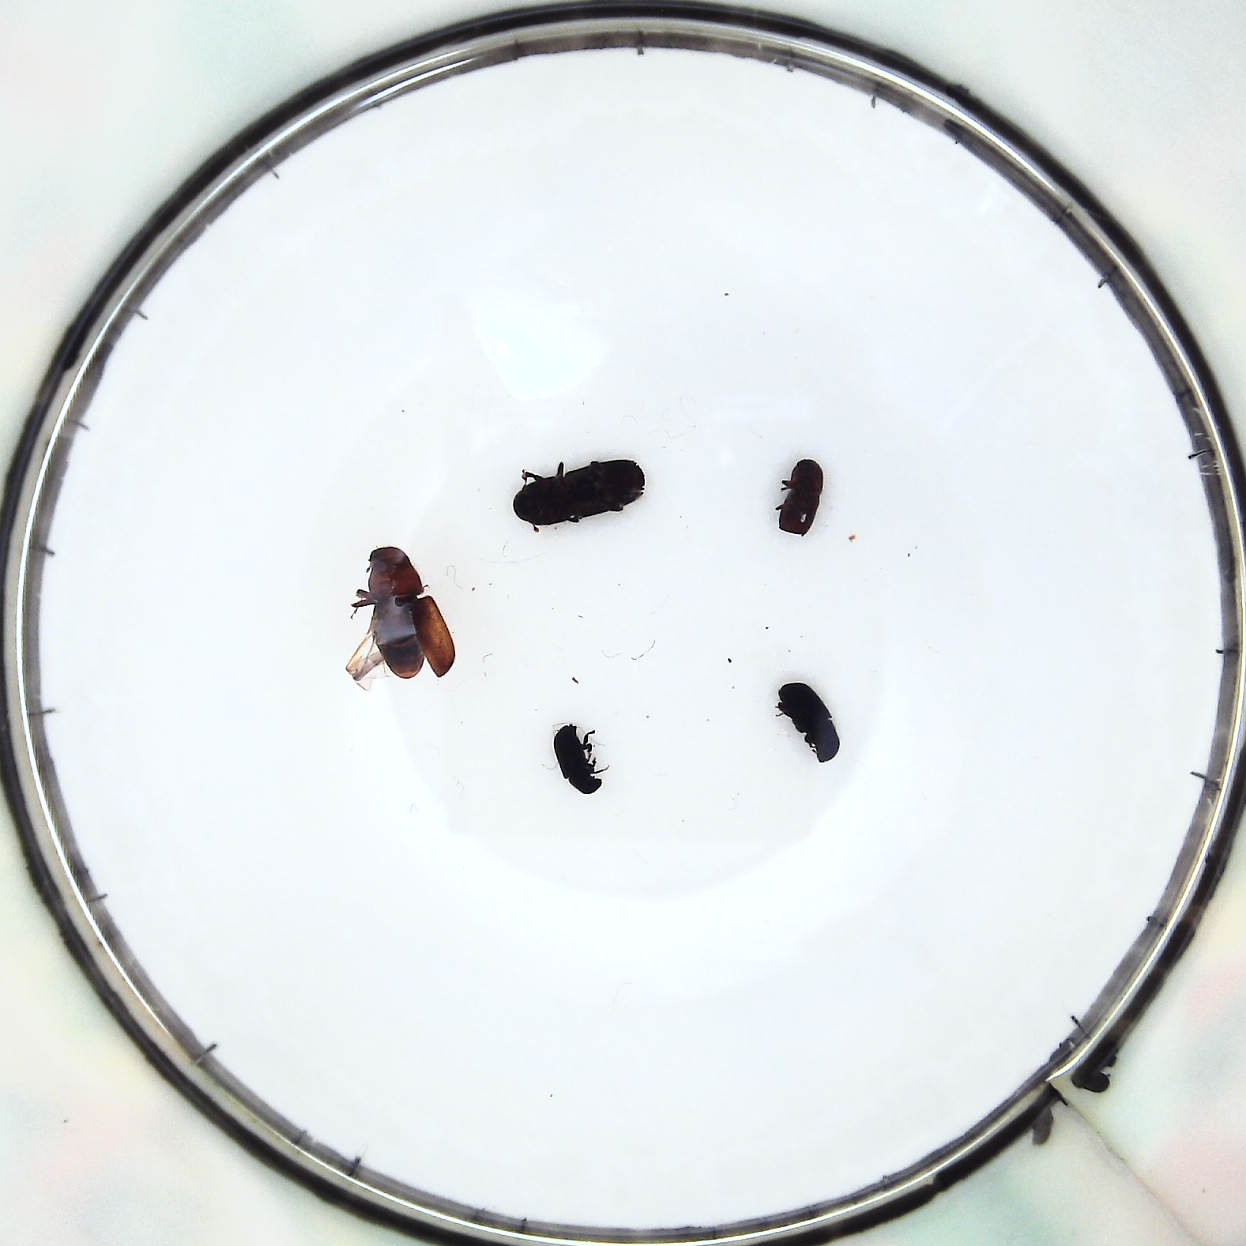Boerner: (508, 458, 649, 521)
Leconte: (342, 541, 454, 682)
Linnaeus: (776, 455, 827, 539)
armandi: (779, 682, 838, 758)
coleoptera: (552, 721, 602, 792)
